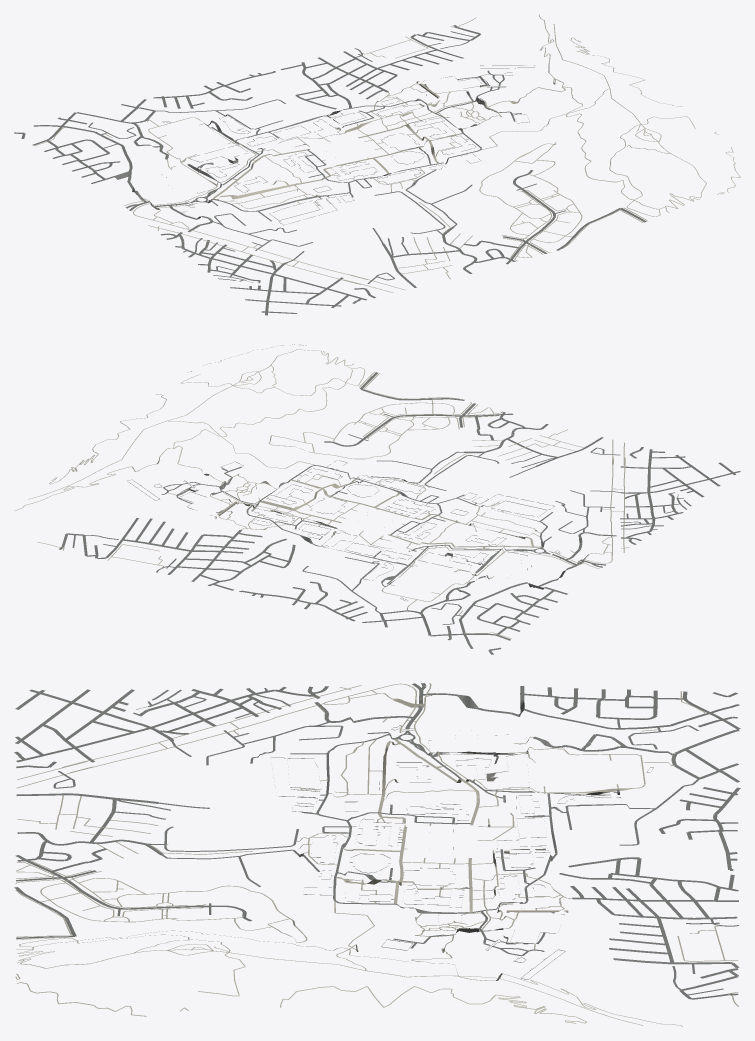
The picture shows the model from 3 angles, top to bottom: view 1: azimuth 30°, elevation 25°; view 2: azimuth 150°, elevation 25°; view 3: azimuth 270°, elevation 25°; orthographic projection. The views are drawn at different scales.
Visible parts, largest first — view 1: uos-asphalt-overlay, uos-paving-overlay, site-concrete; view 2: uos-asphalt-overlay, uos-paving-overlay, site-concrete; view 3: uos-asphalt-overlay, uos-paving-overlay, site-concrete.
Part boxes in pixels (x1,y1,x2,y2): uos-asphalt-overlay: [14, 25, 646, 315]; uos-paving-overlay: [34, 14, 740, 292]; site-concrete: [161, 65, 534, 225]; uos-asphalt-overlay: [59, 372, 740, 654]; uos-paving-overlay: [14, 344, 678, 638]; site-concrete: [127, 460, 559, 600]; uos-asphalt-overlay: [14, 683, 740, 999]; uos-paving-overlay: [15, 683, 738, 1026]; site-concrete: [271, 725, 653, 979].
Size of the model in its own units: 1018 by 67.49 by 900.
12 materials, 4 textured.
